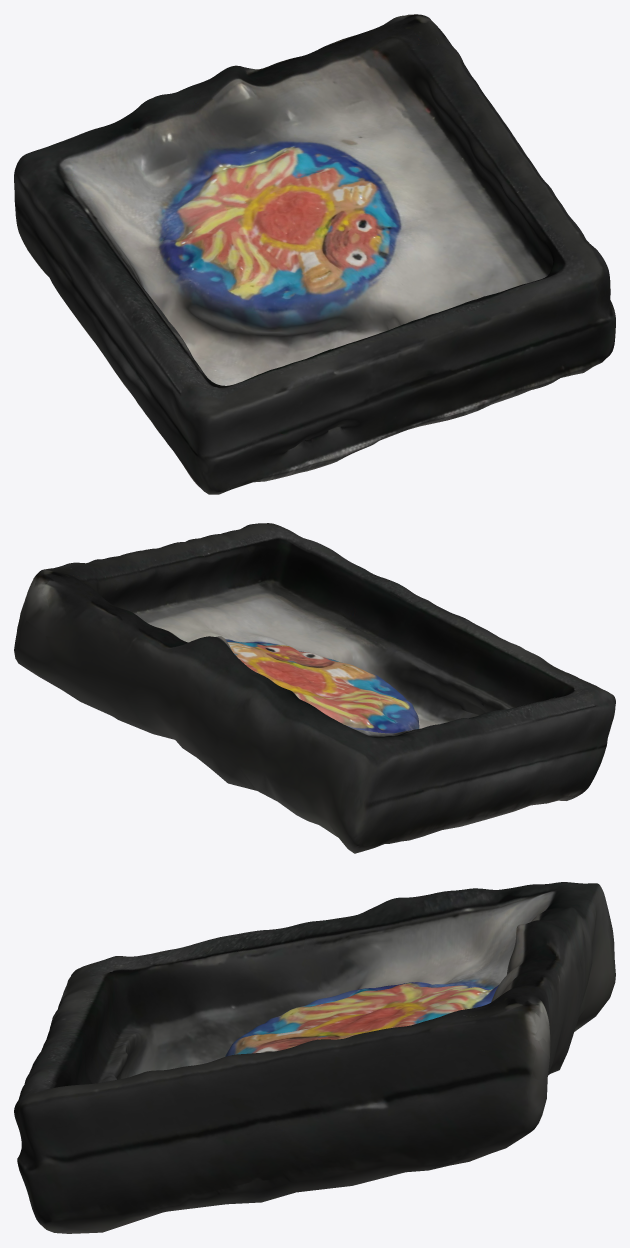
3 renders of one model, top to bottom at view 1: azimuth 30°, elevation 25°; view 2: azimuth 150°, elevation 25°; view 3: azimuth 270°, elevation 25°, orthographic. The views are drawn at different scales.
Bounding box in the file's own units: 0.652 × 0.374 × 0.654.
1 material, 1 textured.
